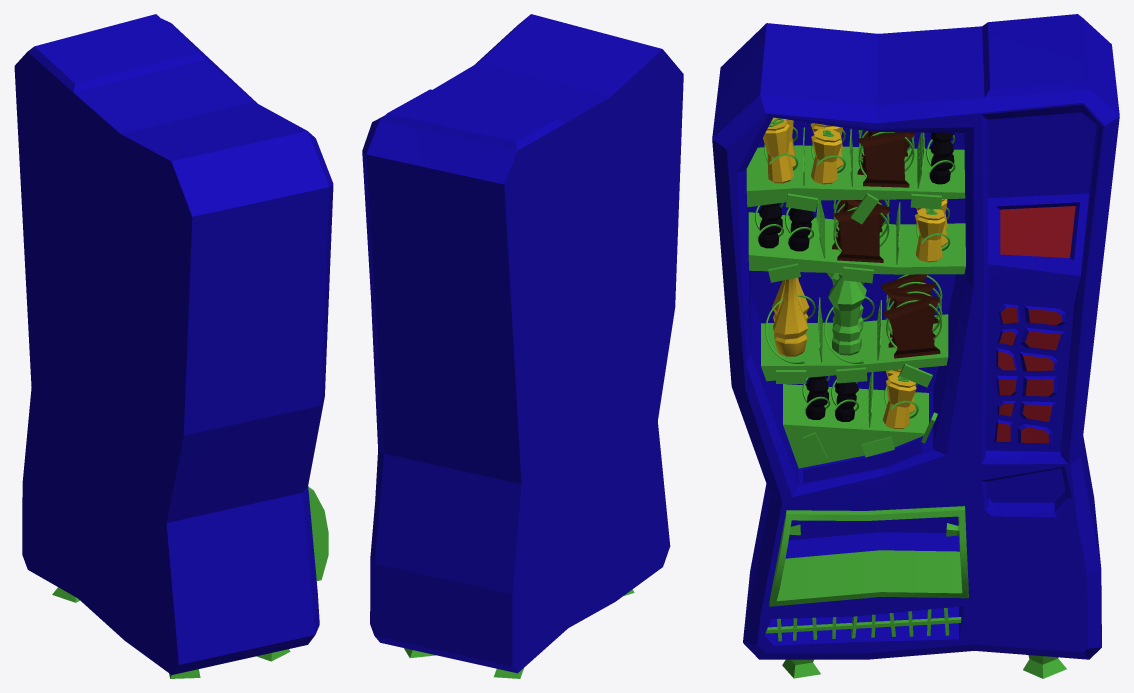
Rendered from SM_Dispenser_01.fbx.
3 views of the same model, side by side, from view 1: azimuth 30°, elevation 25°; view 2: azimuth 150°, elevation 25°; view 3: azimuth 270°, elevation 25° (orthographic). The views are drawn at different scales.
Visible parts, largest first — view 1: SM_Dispenser_01; view 2: SM_Dispenser_01; view 3: SM_Dispenser_01.
Boxes of the visible parts, x1,y1,x2,y2 form: SM_Dispenser_01: (14, 14, 333, 678); SM_Dispenser_01: (362, 14, 683, 678); SM_Dispenser_01: (712, 14, 1119, 678).
Bounding box in the file's own units: 0.7644 × 2.44 × 1.51.
